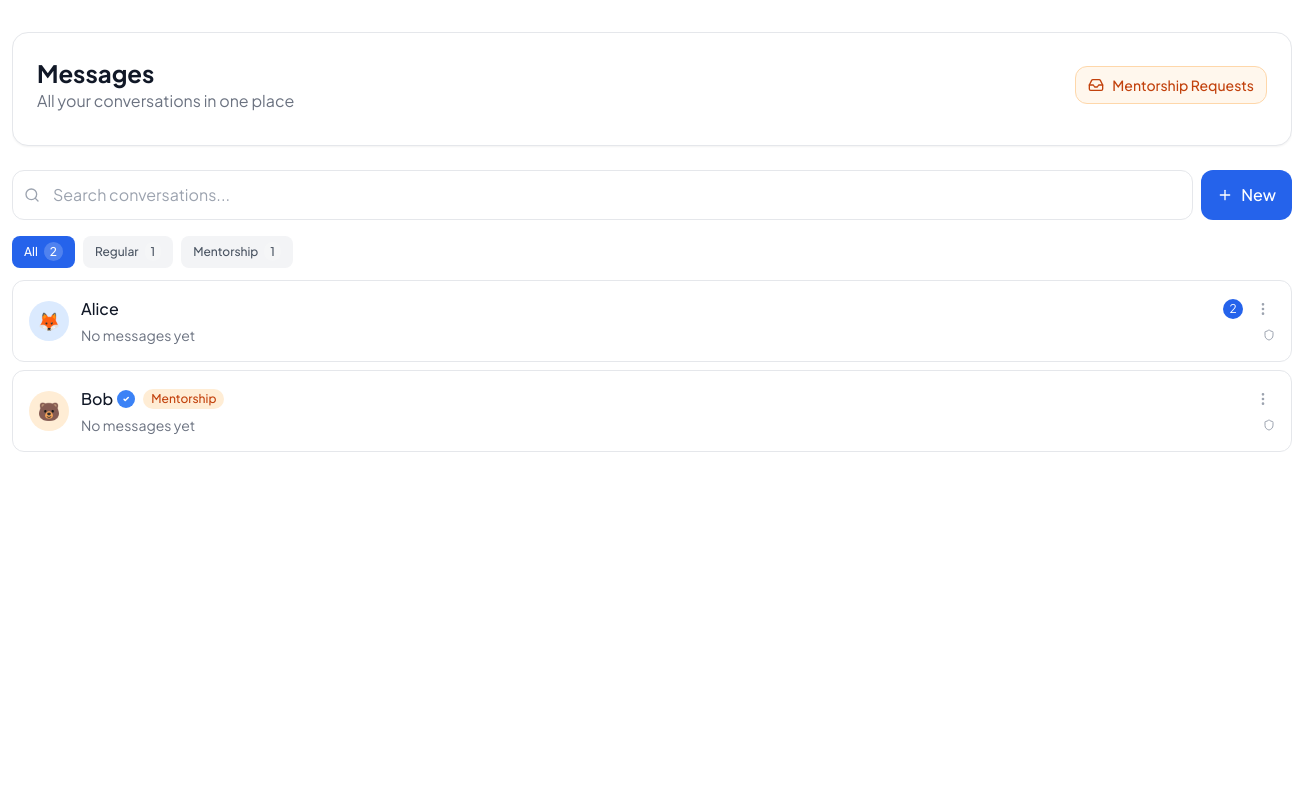
Test case: MessagesView › opens new conversation panel when New button is clicked
This screenshot has width=1304, height=800.
Click the button "New" at (1247, 195), box [1201, 170, 1292, 220]
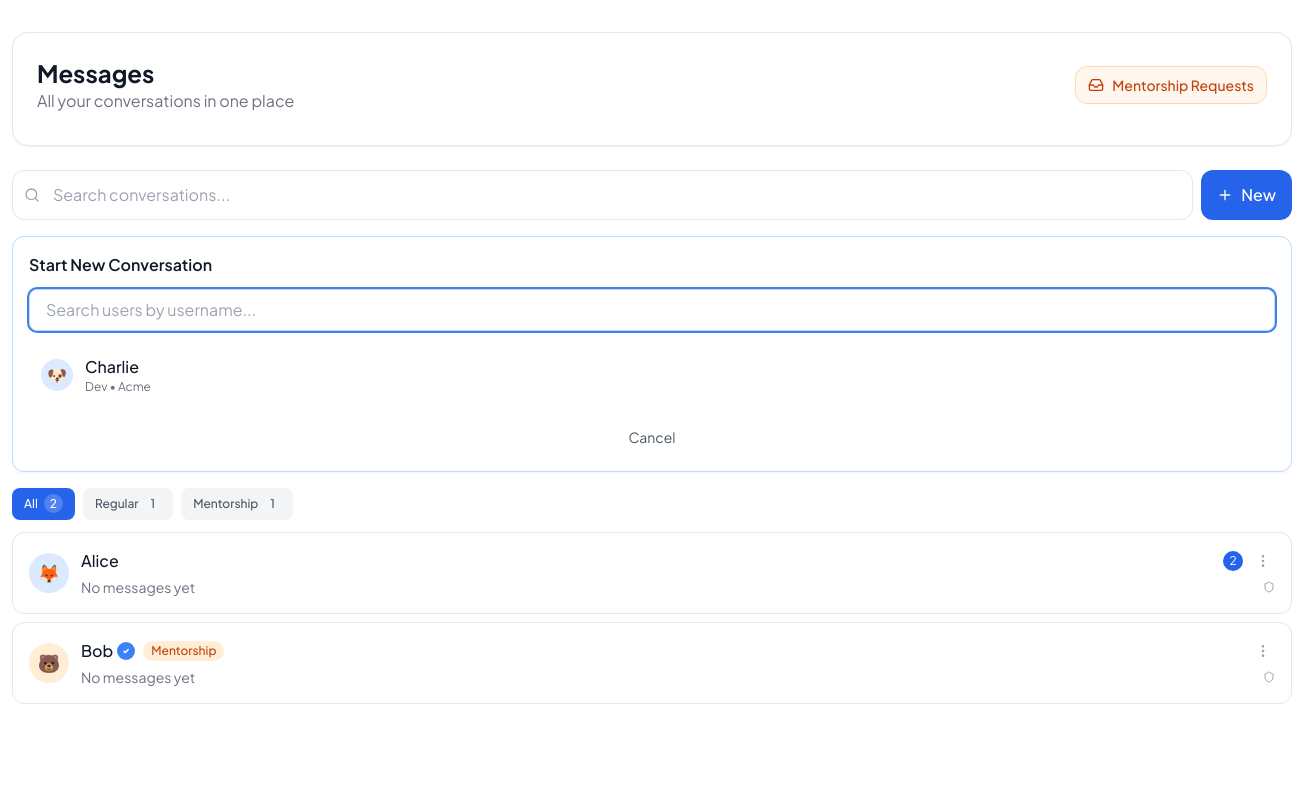
Expected: the heading "Start New Conversation" is shown, [29, 254, 212, 275]
